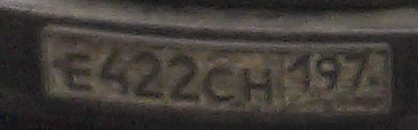character: (168, 44, 202, 104), (344, 47, 378, 101), (134, 43, 165, 102), (100, 42, 130, 99), (205, 58, 238, 104), (241, 63, 277, 105), (63, 49, 95, 94), (287, 50, 316, 99), (316, 51, 342, 96)
